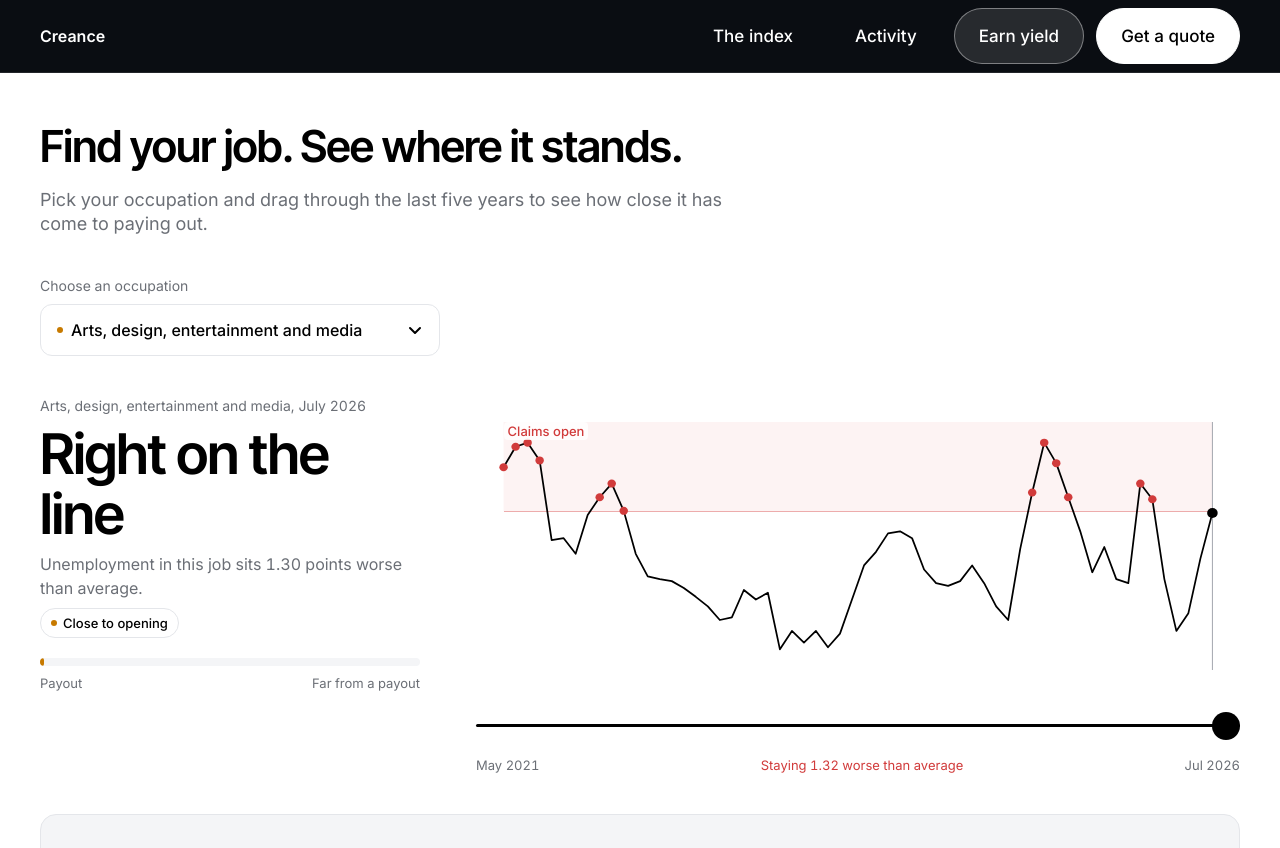
the picker › changes the whole verdict when another occupation is picked, and closes
This screenshot has width=1280, height=848.
Click the button at (240, 330), box x1=40 y1=304 x2=440 y2=356
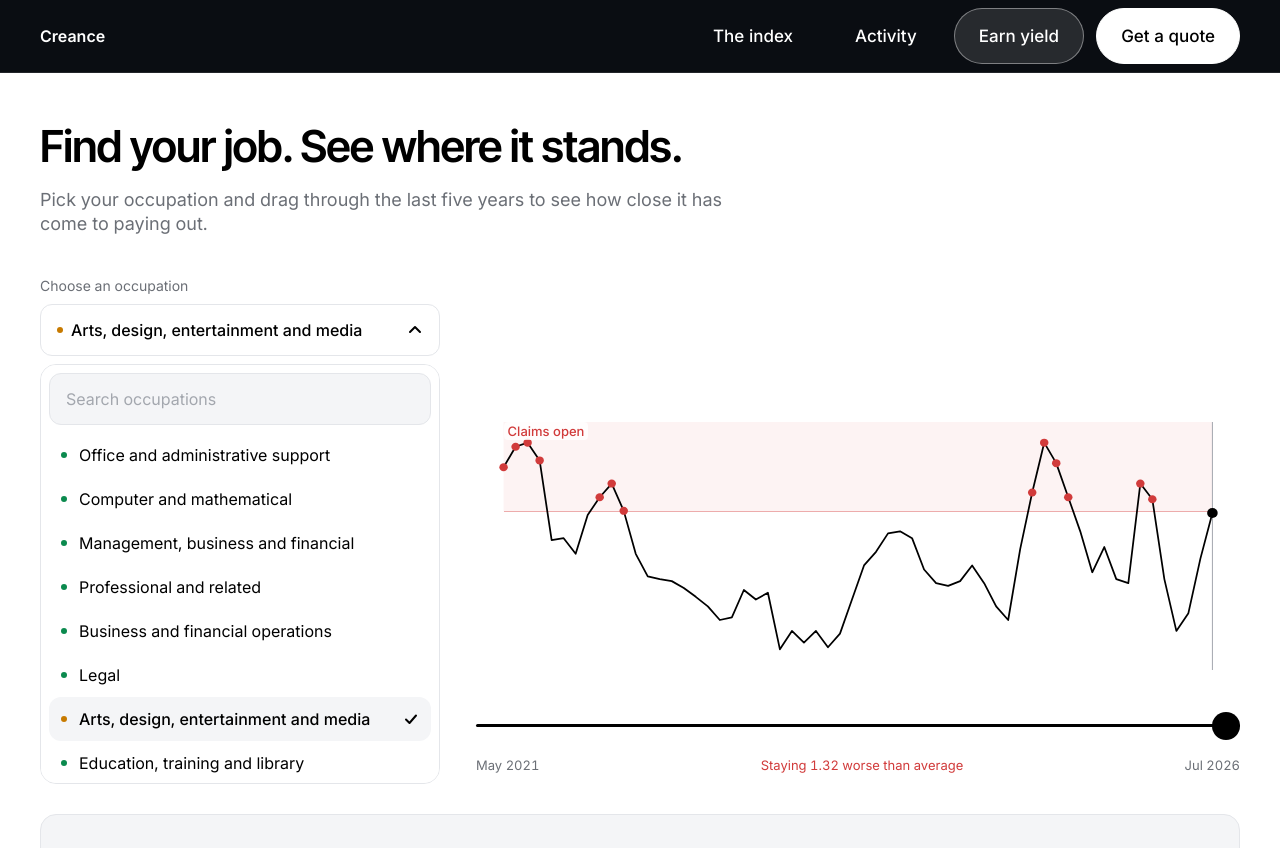
Click the button "Legal" at (100, 675), box x1=49 y1=653 x2=431 y2=697
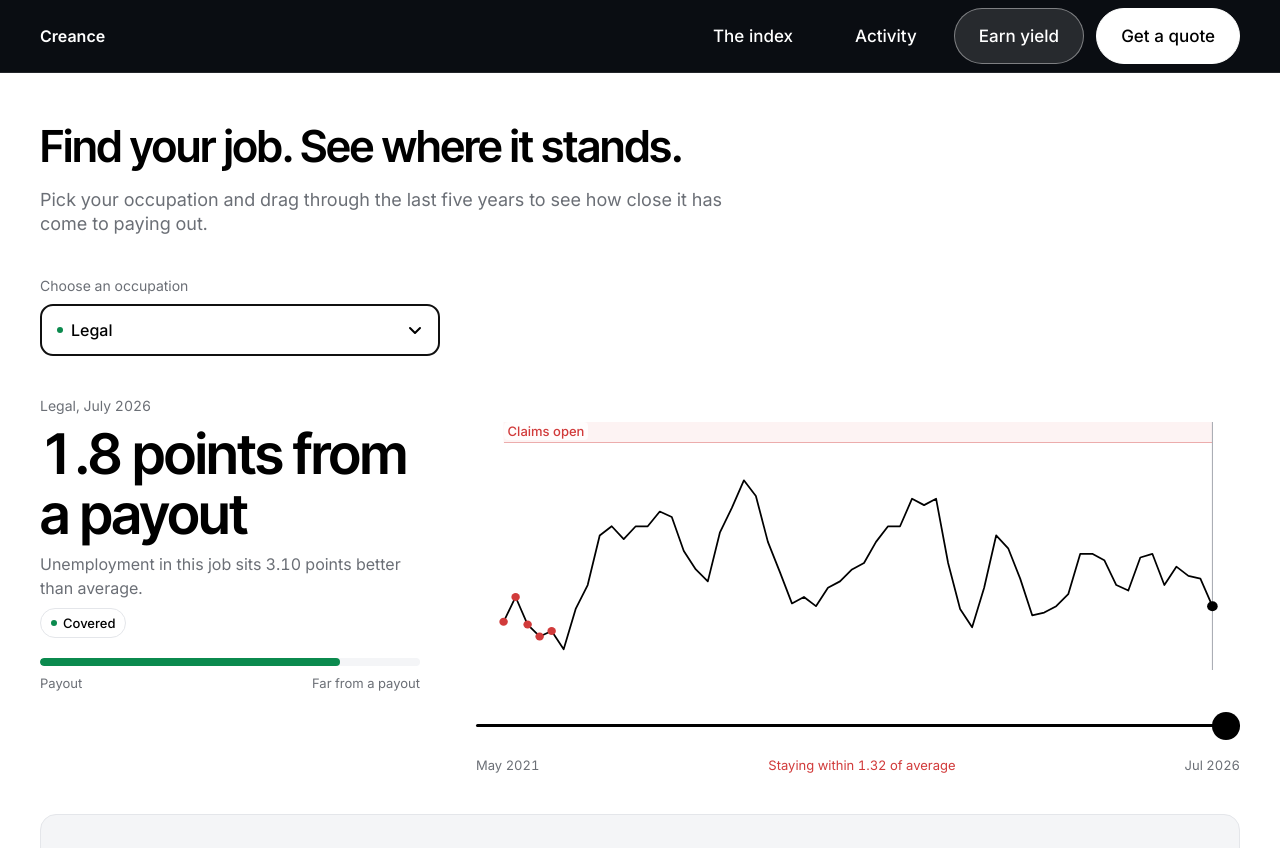
Check: the button reads "Legal", box x1=40 y1=304 x2=440 y2=356
Check: the button is collapsed, box x1=40 y1=304 x2=440 y2=356
